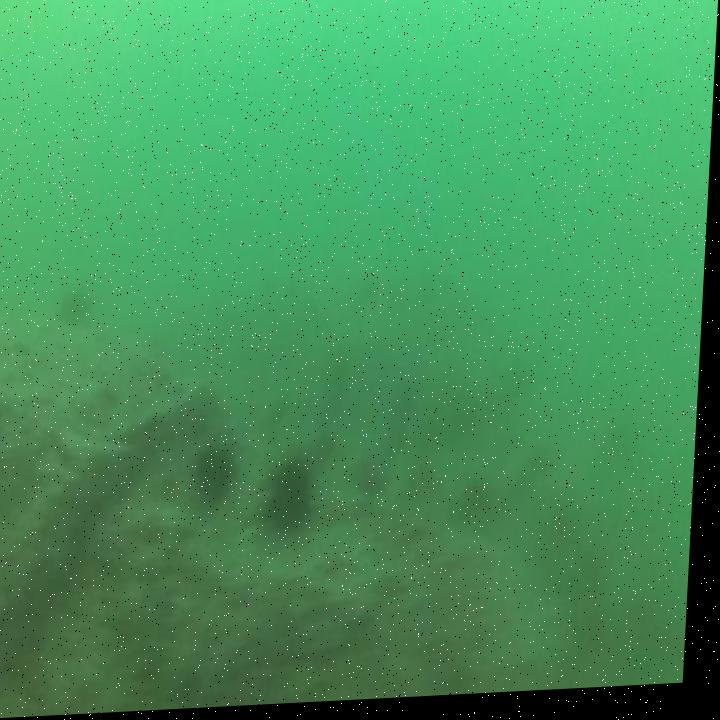echinus: (195, 432, 247, 514), (273, 454, 322, 539), (55, 278, 99, 335)
